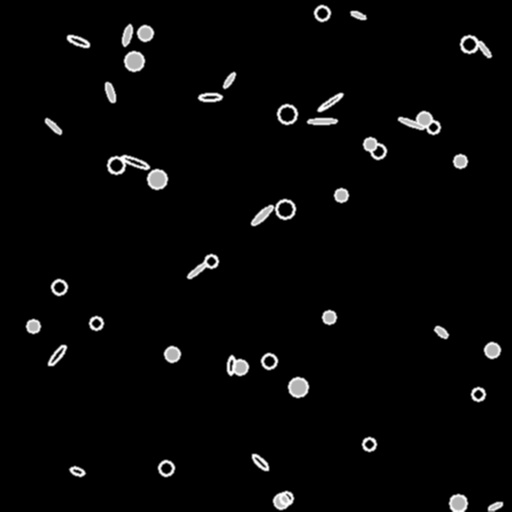pseudomonas: (250, 203, 274, 227), (46, 343, 68, 367), (317, 92, 343, 112), (121, 154, 149, 170), (250, 452, 270, 472), (186, 261, 208, 279), (397, 116, 425, 130), (66, 34, 90, 48), (44, 117, 62, 135), (476, 40, 492, 58), (121, 24, 133, 46), (433, 324, 449, 340), (104, 82, 116, 102), (222, 72, 236, 88), (307, 118, 337, 124), (199, 93, 221, 101), (227, 355, 235, 375), (69, 466, 85, 476), (487, 501, 503, 511), (350, 10, 366, 20)
synechocystis: (278, 105, 296, 123), (276, 200, 294, 218), (148, 170, 166, 188), (125, 52, 143, 70), (289, 378, 307, 396), (108, 157, 124, 173), (461, 36, 477, 52), (450, 495, 466, 511), (274, 494, 288, 508), (165, 347, 179, 361), (52, 280, 66, 294), (233, 360, 247, 374), (417, 112, 431, 126), (262, 354, 276, 368), (371, 144, 385, 158), (485, 343, 499, 357), (159, 461, 173, 475), (315, 6, 329, 20), (138, 26, 152, 40), (363, 438, 375, 450), (280, 492, 292, 504), (427, 121, 439, 133), (454, 155, 466, 167), (205, 255, 217, 267), (90, 317, 102, 329), (335, 189, 347, 201), (364, 138, 376, 150), (323, 311, 335, 323), (472, 388, 484, 400), (27, 320, 39, 332)
